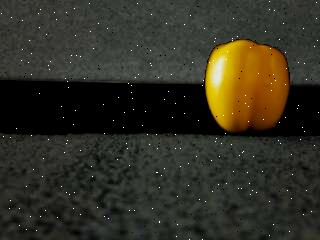Capsicum: (204, 39, 290, 135)
